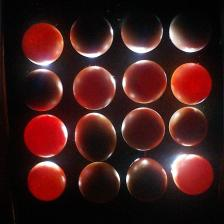fertile: (69, 12, 114, 59), (75, 112, 116, 162), (122, 59, 167, 104), (72, 65, 117, 110), (121, 107, 165, 151), (20, 68, 63, 112), (121, 9, 163, 54), (169, 10, 212, 53), (126, 158, 168, 202), (78, 162, 121, 203), (169, 106, 208, 147)
infertile: (23, 114, 68, 158), (21, 22, 64, 66), (170, 62, 213, 105), (172, 153, 214, 196), (27, 161, 66, 202)
